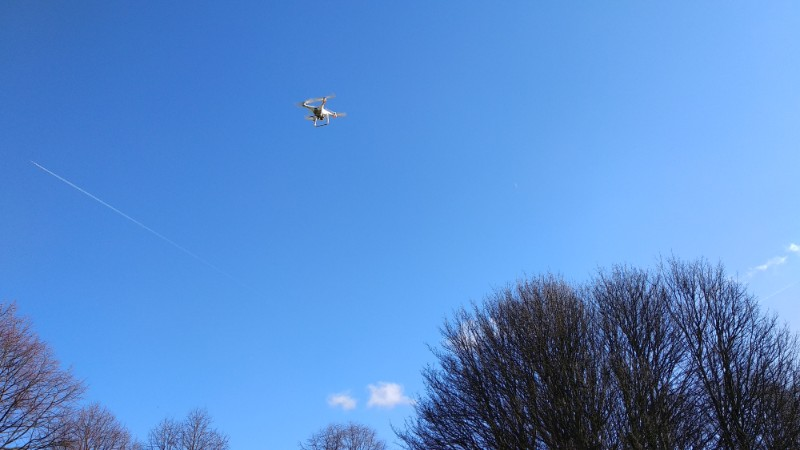drone: (295, 92, 349, 128)
